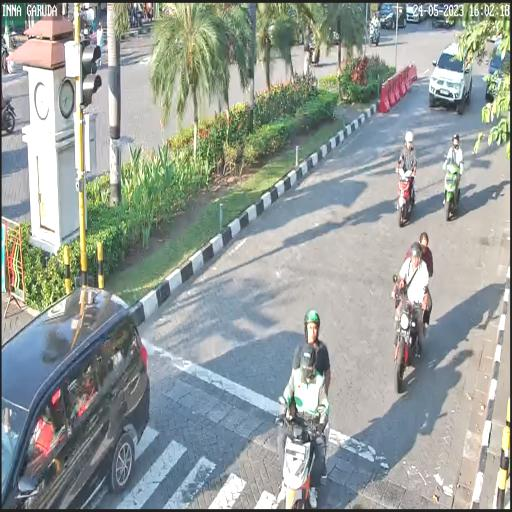mobil: (4, 271, 152, 506), (430, 36, 472, 114)
motor: (274, 390, 329, 508), (388, 276, 434, 390), (442, 153, 467, 226), (394, 159, 418, 227)
